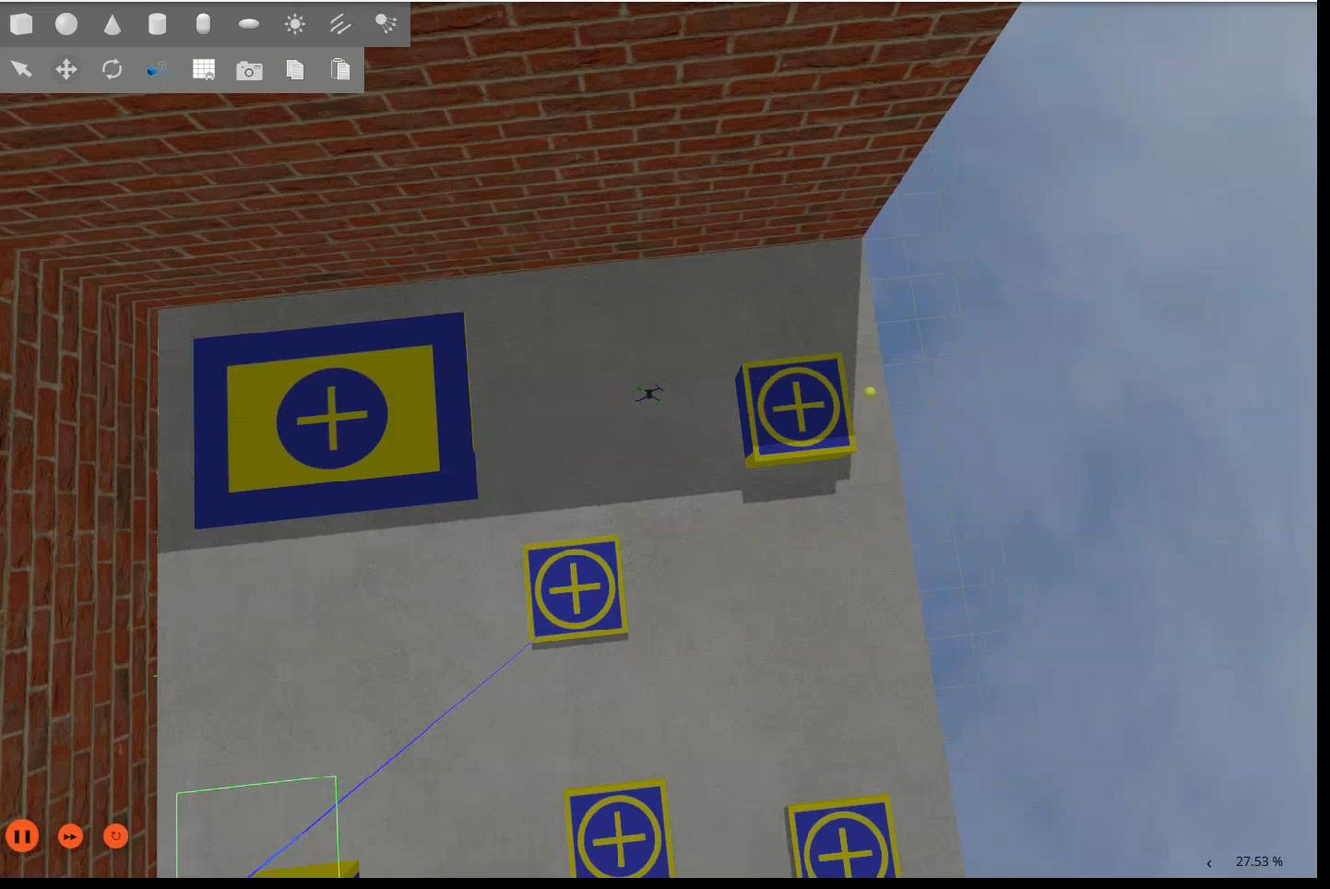large_base: (194, 314, 483, 534)
small_base: (739, 348, 858, 466), (524, 536, 631, 648), (564, 783, 675, 881), (785, 794, 903, 879)
